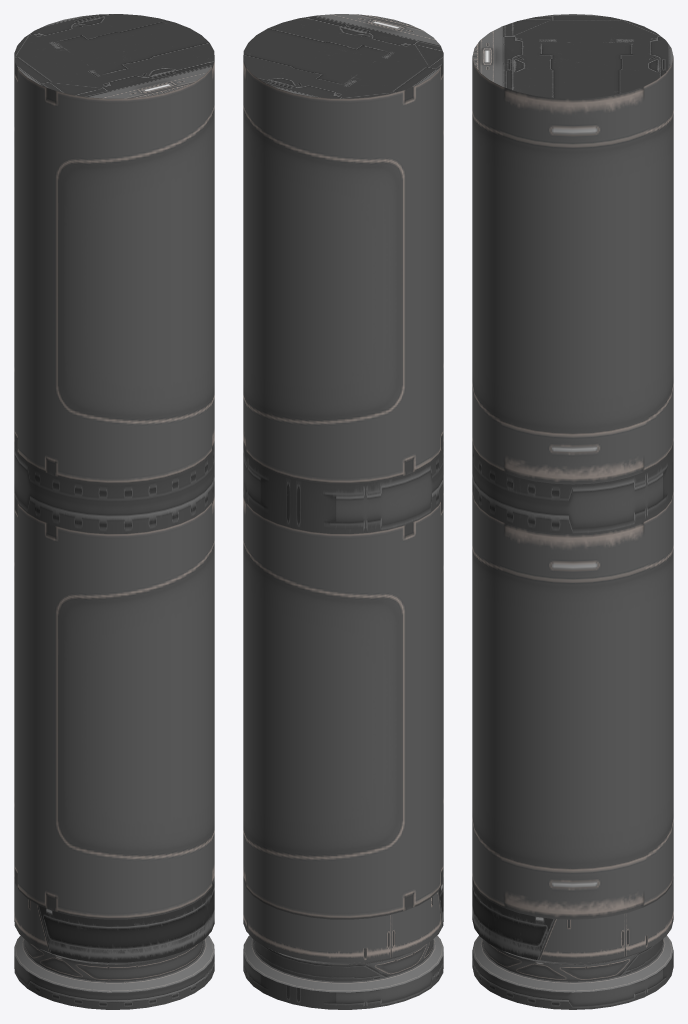
Rendered from Column_Round.gltf.
The picture shows the model from 3 angles, left to right: view 1: azimuth 30°, elevation 25°; view 2: azimuth 150°, elevation 25°; view 3: azimuth 270°, elevation 25°; orthographic projection.
Visible parts, largest first — view 1: Column_Round; view 2: Column_Round; view 3: Column_Round.
Part boxes in pixels (bbox=[...]): Column_Round: bbox=[14, 14, 214, 1009]; Column_Round: bbox=[243, 14, 443, 1009]; Column_Round: bbox=[472, 14, 673, 1009].
Size of the model in its own units: 1 by 5 by 1.
Materials: 2 (2 with a texture image).
